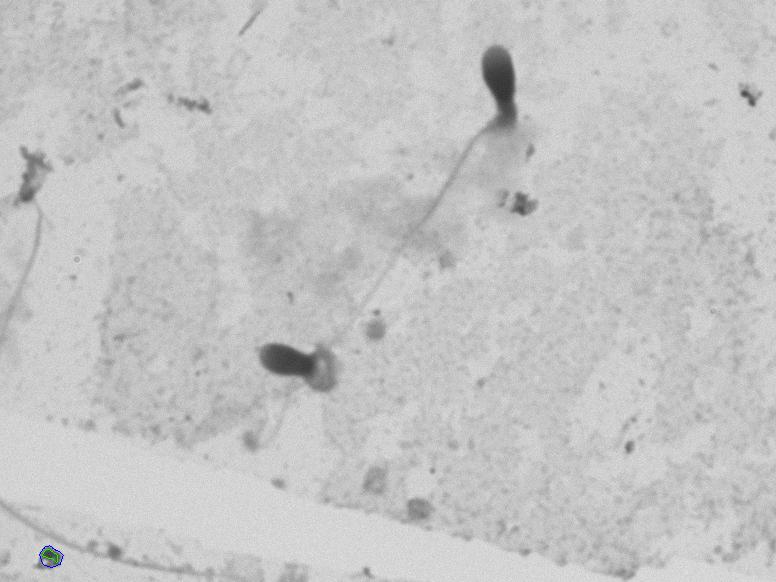Abnormal: (346, 17, 584, 346), (239, 289, 363, 447)
